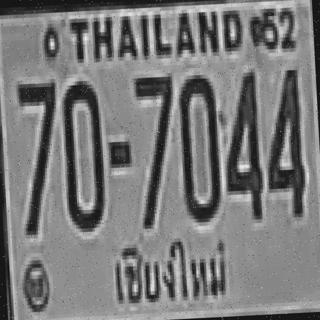N00: (60, 77, 105, 229), (176, 71, 220, 220)
N04: (262, 66, 306, 215), (221, 68, 263, 218)
N07: (133, 73, 178, 226), (17, 79, 61, 232)
P11: (106, 232, 237, 316)
